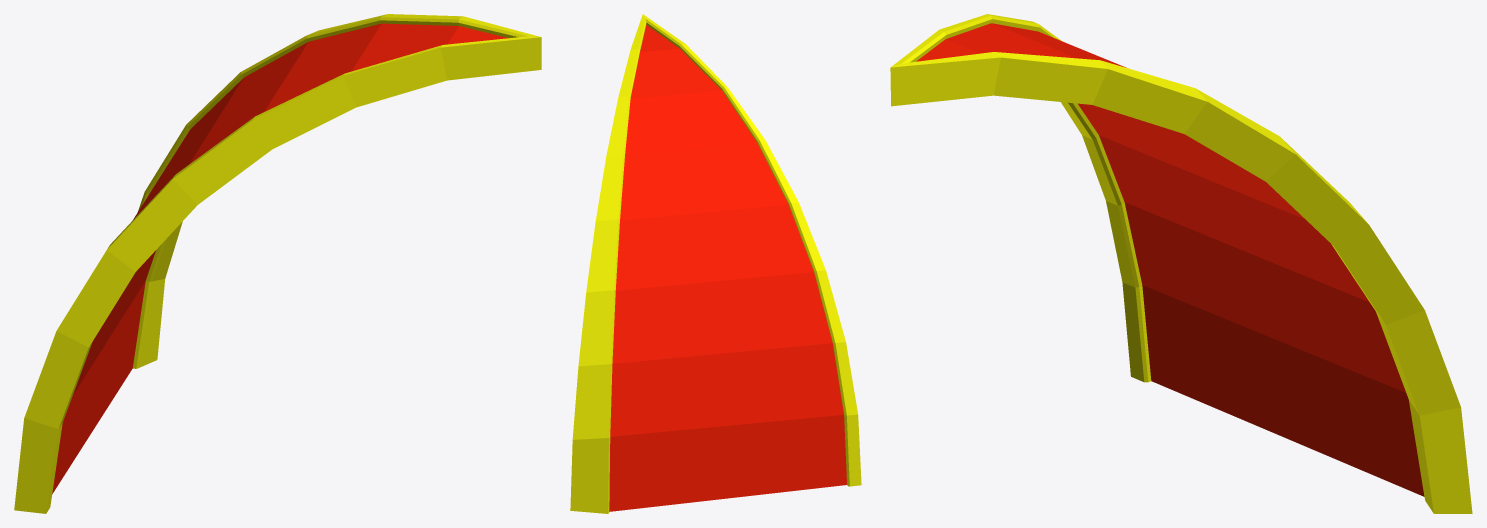
Rendered from COUPOLE.fbx.
3 views of the same model, side by side, from view 1: azimuth 30°, elevation 25°; view 2: azimuth 150°, elevation 25°; view 3: azimuth 270°, elevation 25° (orthographic). The views are drawn at different scales.
Parts seen in each view (by area): view 1: COUPOLE_1; view 2: COUPOLE_1; view 3: COUPOLE_1.
Boxes of the visible parts, x1,y1,x2,y2 form: COUPOLE_1: [14, 14, 541, 513]; COUPOLE_1: [570, 14, 861, 513]; COUPOLE_1: [890, 14, 1472, 513].
Bounding box in the file's own units: 391 × 413 × 409.
